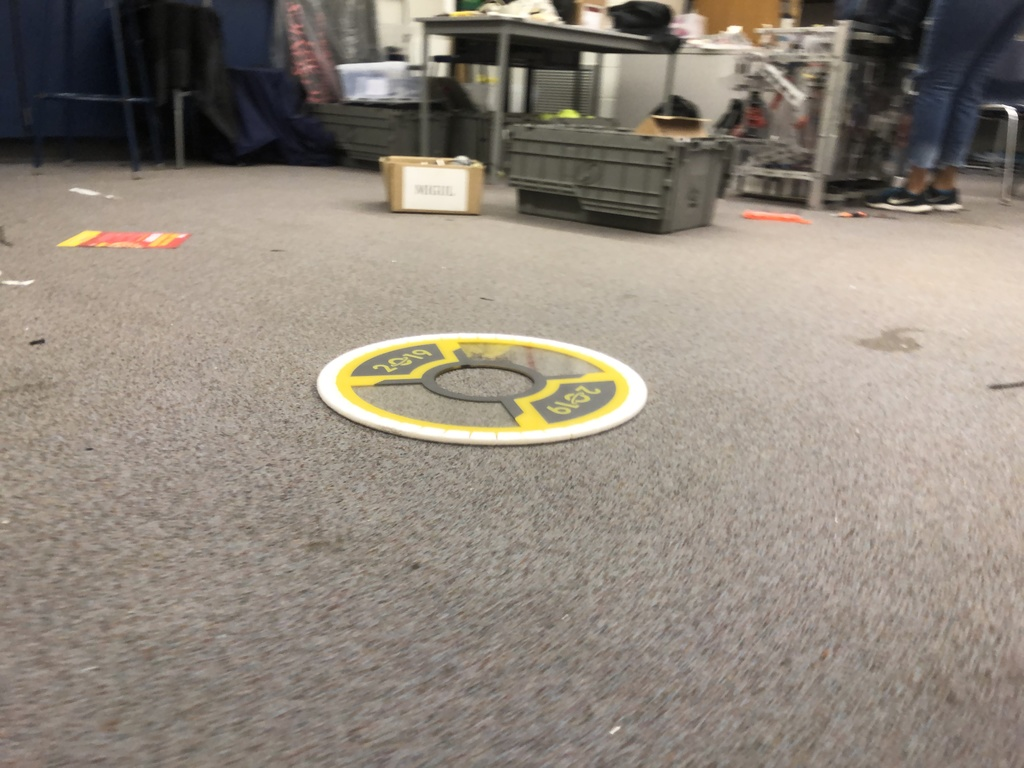hatch_panel: (301, 322, 677, 464)
